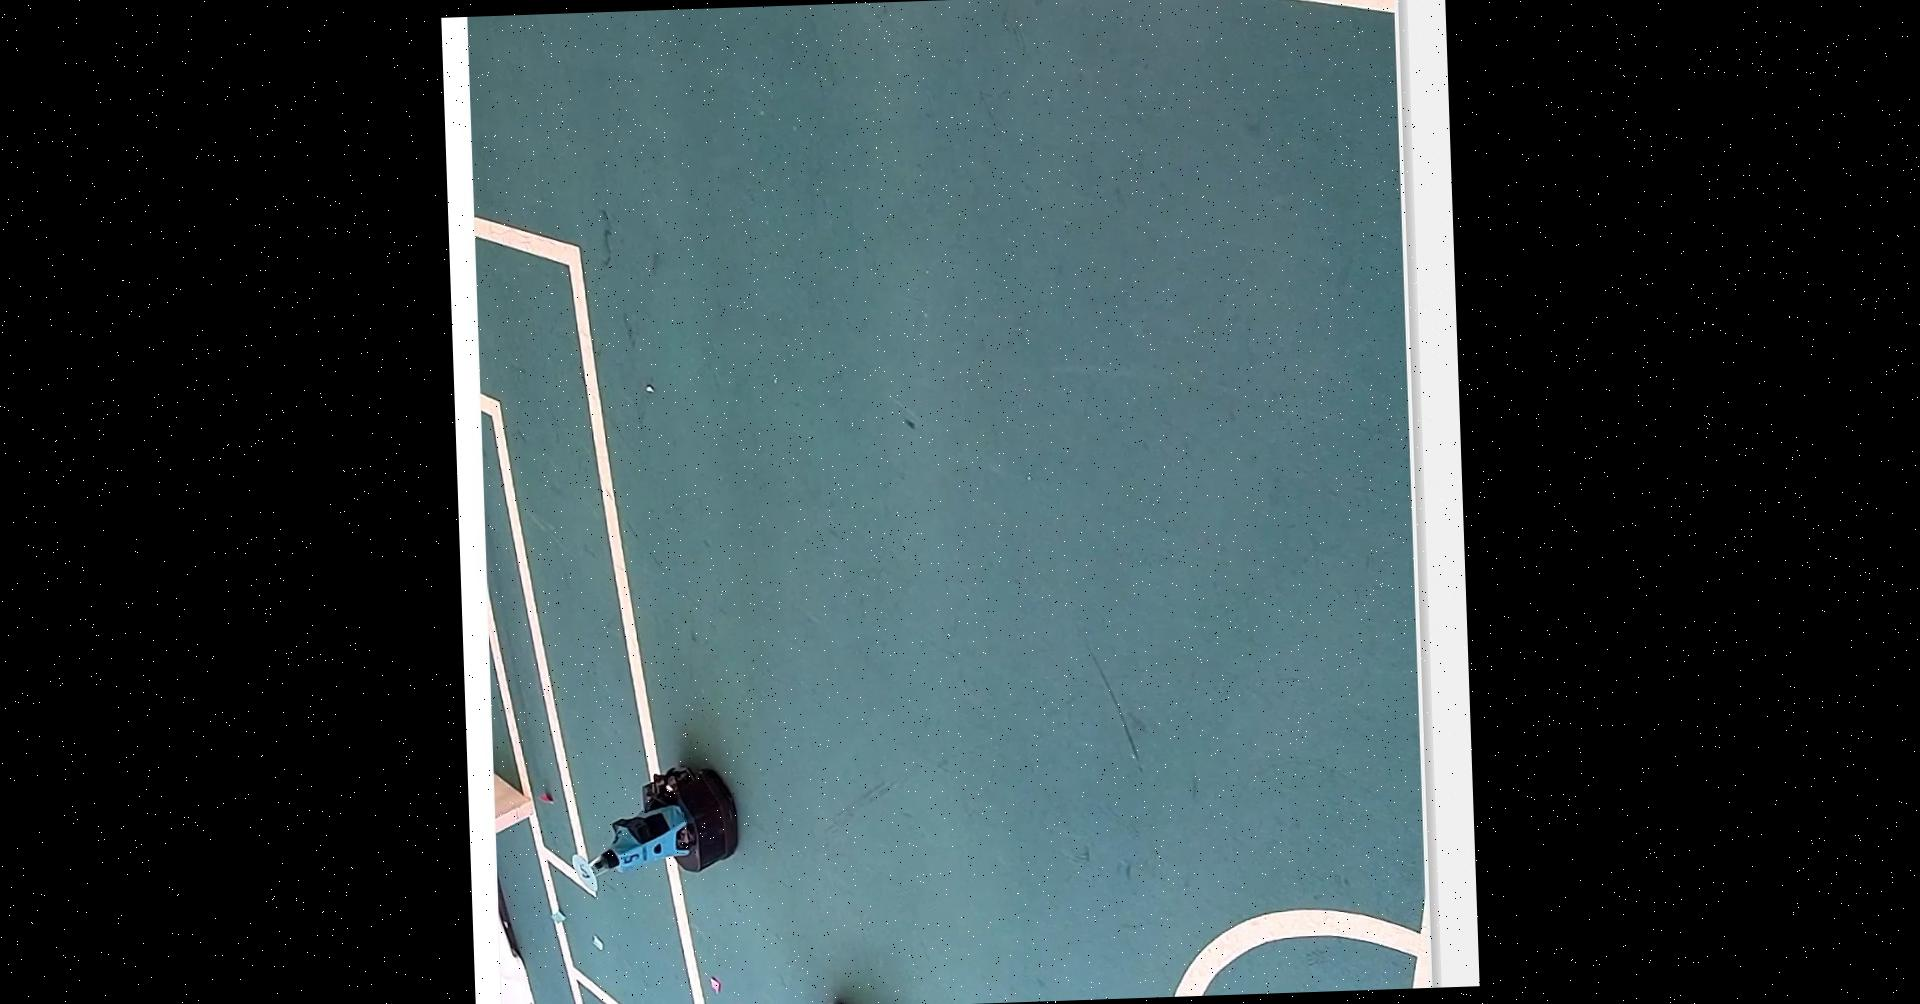Team_Blue: (556, 750, 744, 895)
